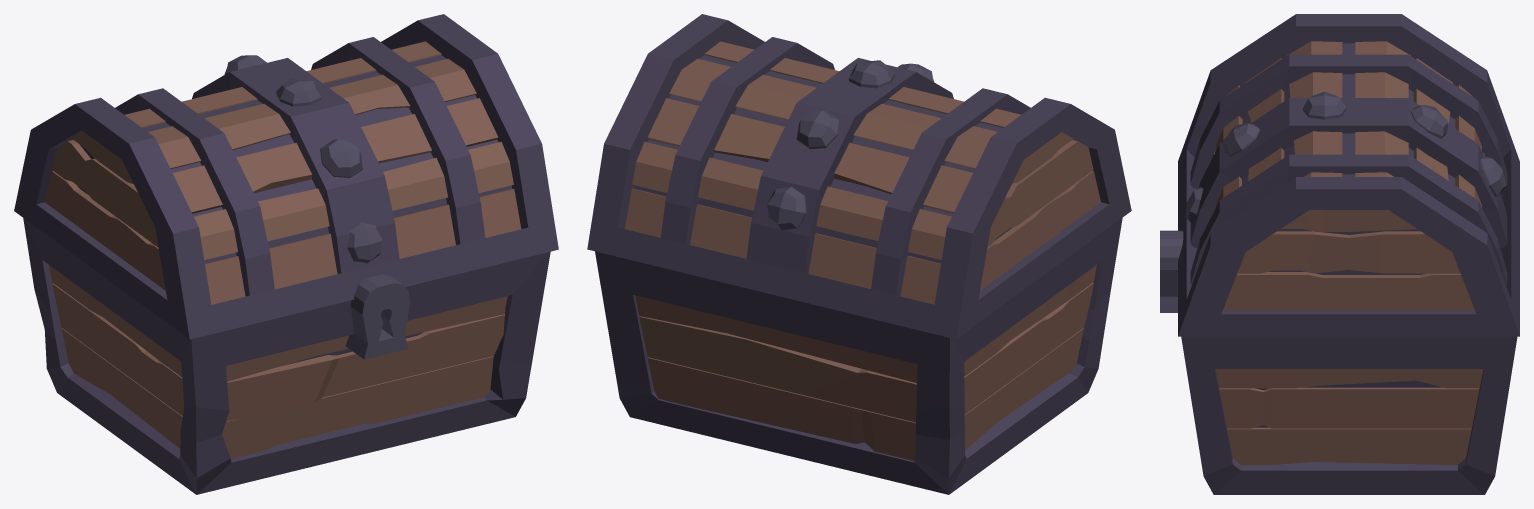
The model's file is chest_closed.glb.
The picture shows the model from 3 angles, left to right: view 1: azimuth 30°, elevation 25°; view 2: azimuth 150°, elevation 25°; view 3: azimuth 270°, elevation 25°; orthographic projection. The views are drawn at different scales.
Visible parts, largest first — view 1: Chest_Closed; view 2: Chest_Closed; view 3: Chest_Closed.
Part boxes in pixels (x1=…): Chest_Closed: x1=14, y1=14, x2=558, y2=494; Chest_Closed: x1=587, y1=14, x2=1131, y2=494; Chest_Closed: x1=1160, y1=14, x2=1519, y2=494.
Size of the model in its own units: 0.9496 by 0.8185 by 0.8238.
